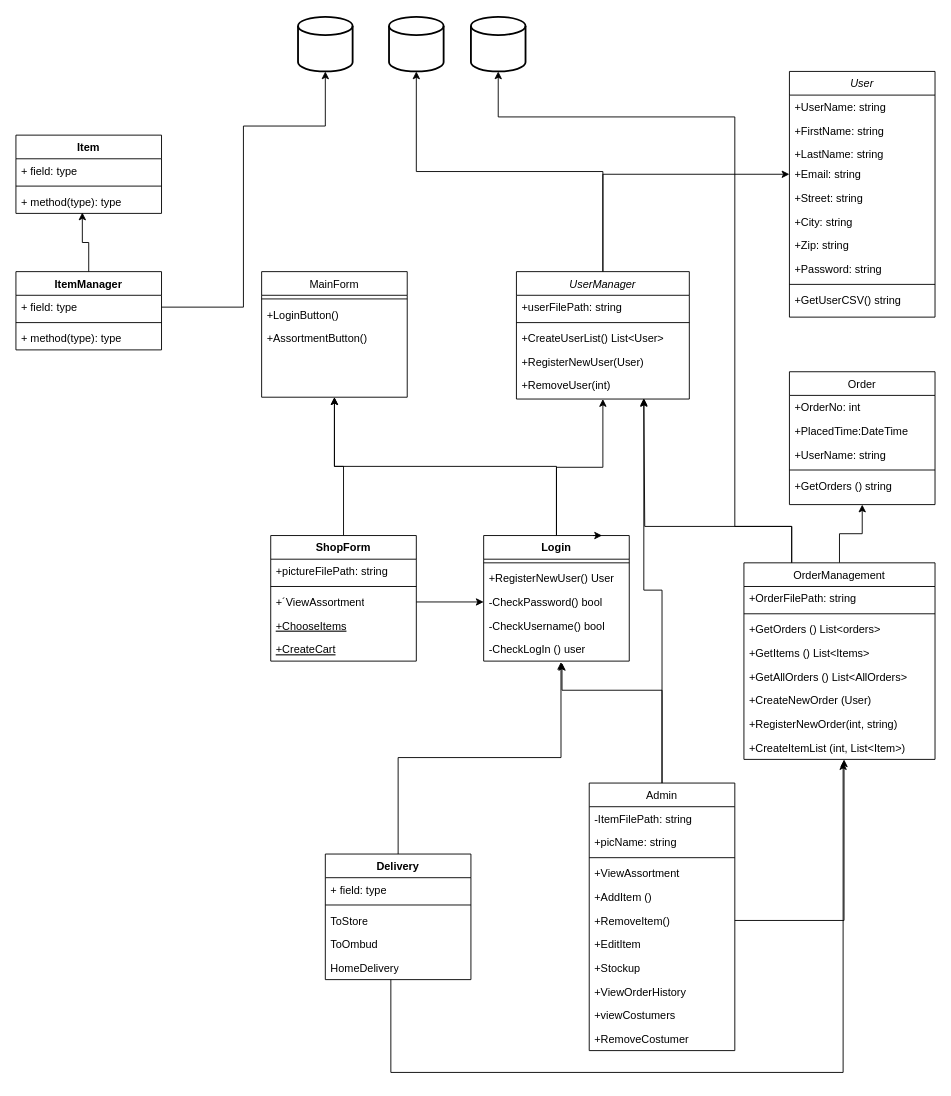
Image size: 951x1096. Some labels were removed from this diagram. The shapes that lost their labels are listed below. From the top down, each one's centre as x and y in pixels, then its label:
At pixel 325 43: "Items".
At pixel 416 43: "Users".
At pixel 498 43: "Orders".
